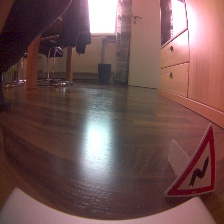vorsicht: (164, 120, 218, 200)
